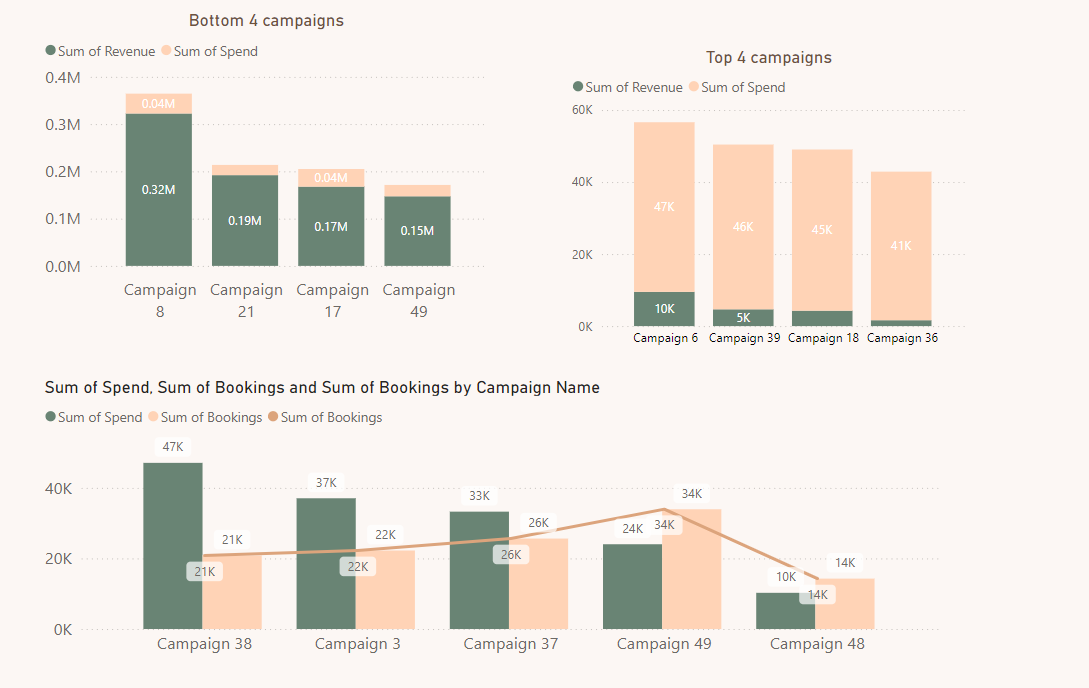

What the dashboard file says about the page in this screenshot:
{"tool":"powerbi","page":{"name":"campaign revenue vs cost","canvas":[1280,720],"ordinal":2},"visuals":[{"type":"columnChart","title":"Bottom 4 campaigns","fields":{"Category":["Sheet1.Campaign Name"],"Y":["Sum(Sheet1.Revenue)","Sum(Sheet1.Spend)"]},"box":[61.4,19.6,445.4,314.1],"z":0},{"type":"columnChart","title":"Top 4 campaigns","fields":{"Category":["Sheet1.Campaign Name"],"Y":["Sum(Sheet1.Revenue)","Sum(Sheet1.Spend)"]},"box":[579.1,54.9,396.6,304.6],"z":1000},{"type":"lineClusteredColumnComboChart","fields":{"Category":["Sheet1.Campaign Name"],"Y":["Sum(Sheet1.Spend)","Sum(Sheet1.Bookings)"],"Y2":["Sum(Sheet1.Bookings)"]},"box":[61.7,378.7,889.2,284],"z":2000}]}

Visuals, with their boxes on the page's 1280x720 design canvas (x1, y1, x2, y2). These are canvas units, not pixel positions in the 1089x688 screenshot, which may show the page scaled, cropped or inside an application window:
"Bottom 4 campaigns" columnChart: 61, 20, 507, 334
"Top 4 campaigns" columnChart: 579, 55, 976, 360
lineClusteredColumnComboChart - Sheet1.Campaign Name x Sum(Sheet1.Spend): 62, 379, 951, 663
